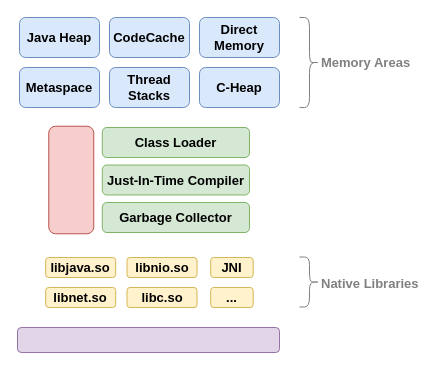
The diagram is 447 pixels wide and 370 high, and some of its shapes have lost their labels. The box of each missing label's shape, as (x1, y1, x2, y2) in pixels:
OS + Hardware: (16, 326, 280, 352)
Runtime: (48, 125, 94, 234)
